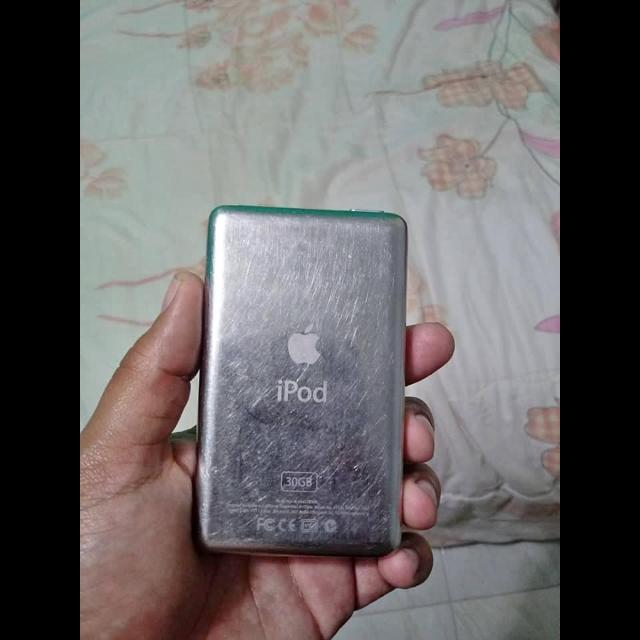Music-Player: (184, 197, 426, 565)
